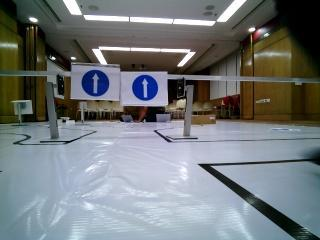straight: (75, 64, 118, 99), (122, 71, 169, 103)
